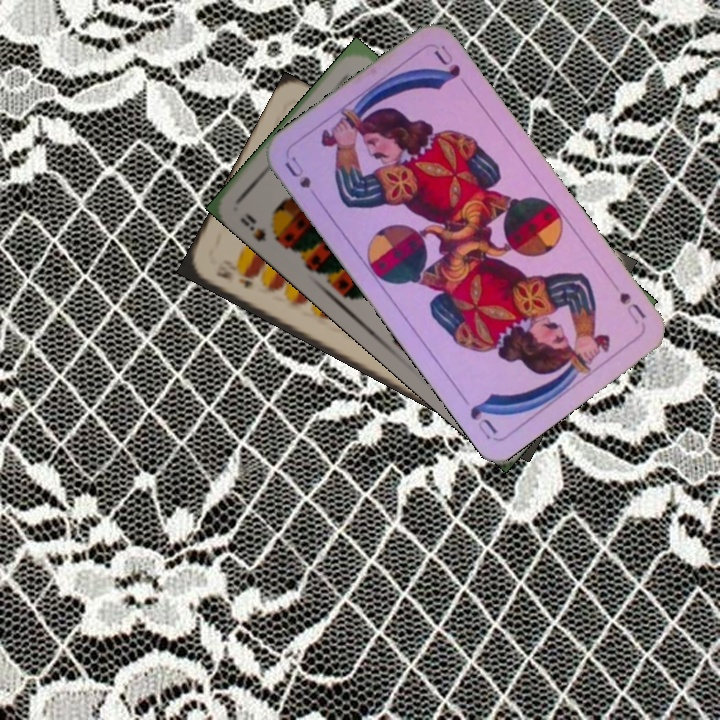E10: (211, 258, 256, 291)
S9: (236, 209, 285, 248)
SU: (280, 152, 314, 191), (615, 288, 649, 327)
